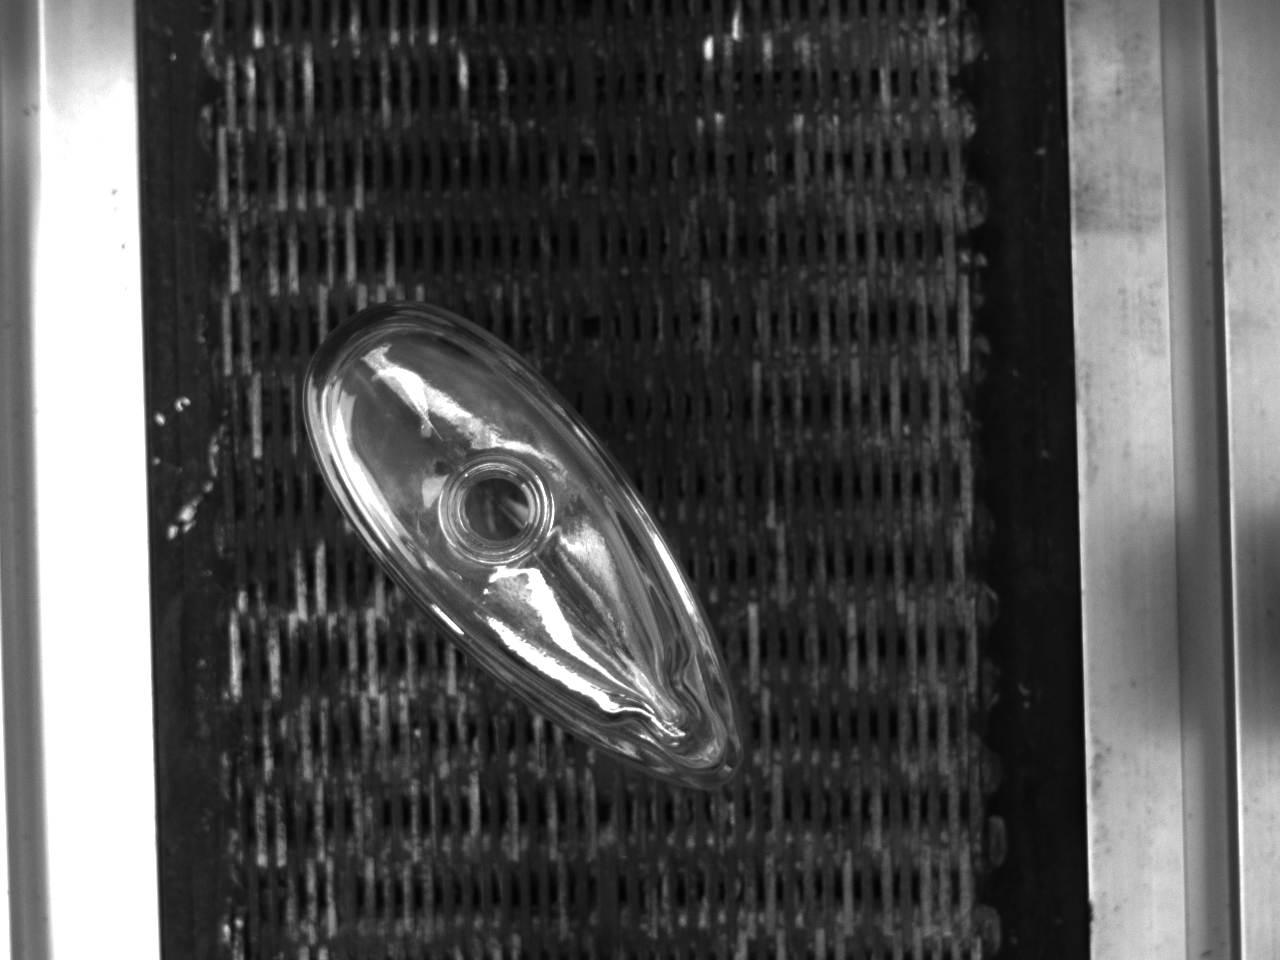bottleneck: (441, 453, 554, 564)
